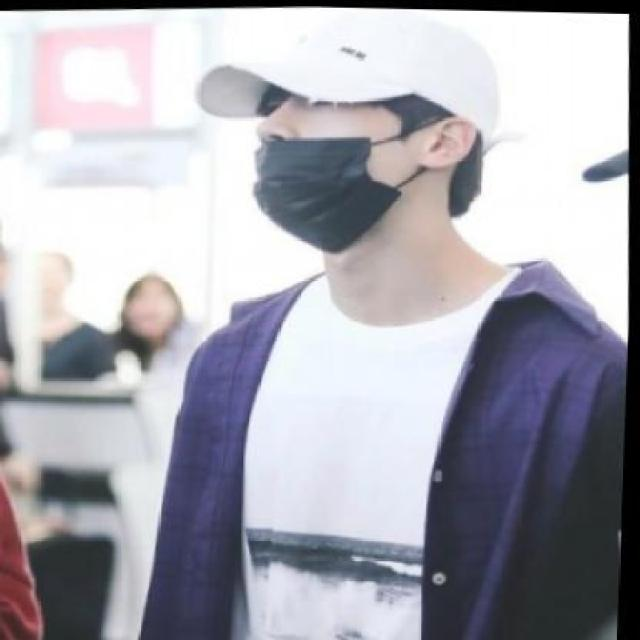hat: (186, 5, 509, 150)
